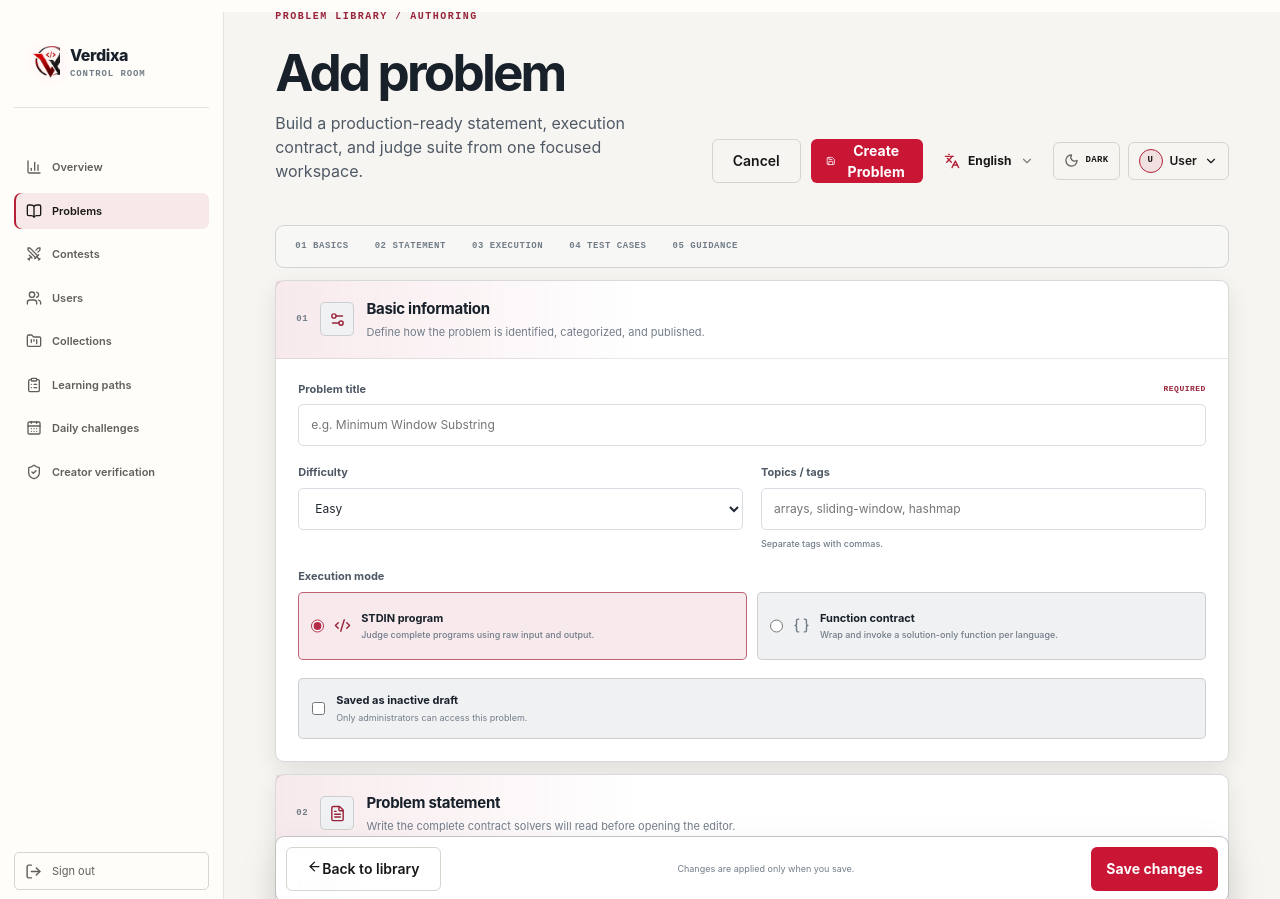
it: create form renders every authoring section and validates required fields
The image size is (1280, 899).
Expected: the heading "Basic information" is shown, [366,299,490,318]
Expected: the heading "Problem statement" is shown, [366,793,500,812]
What coordinates should you click on to do the following:
click the button "Create Problem"
I would click on:
 (867, 161)
Its box is [811,139,923,183].
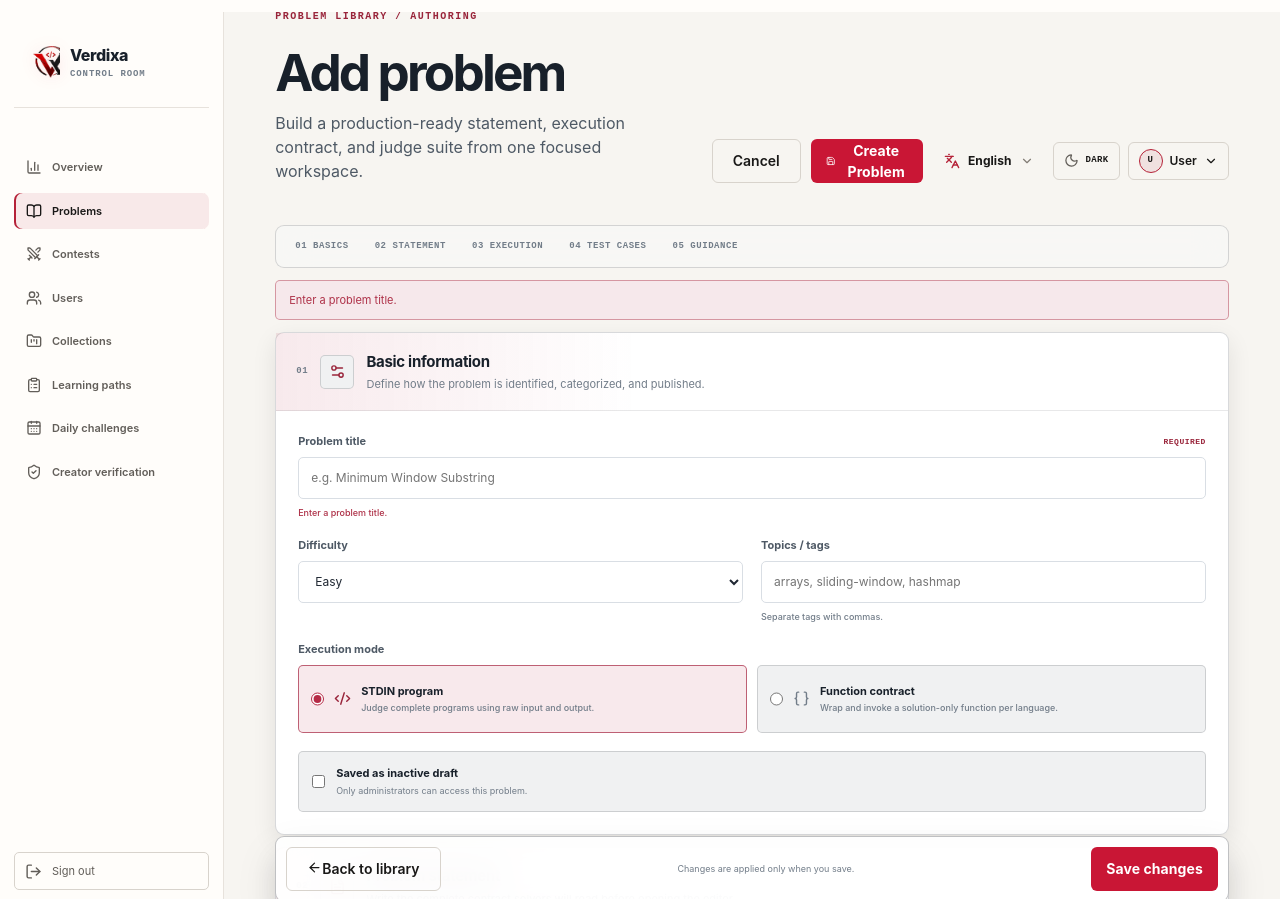
Expected: the message shows "Enter a problem title", [289,293,397,307]
